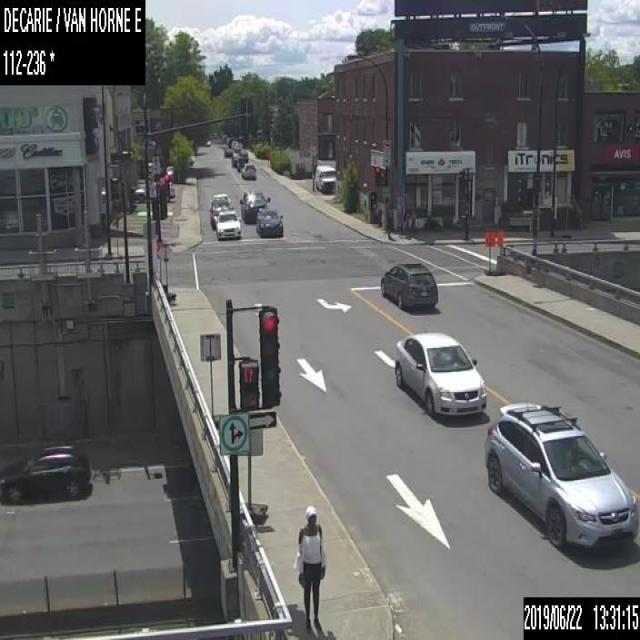construction: (240, 424, 268, 523), (198, 332, 226, 425), (154, 240, 176, 300), (495, 229, 505, 273), (484, 232, 493, 274)
pedestrian: (296, 504, 326, 629)
vehicle: (484, 400, 639, 545), (393, 329, 485, 415), (0, 442, 91, 502), (379, 261, 437, 308), (239, 190, 270, 224), (132, 180, 176, 202), (212, 210, 241, 239), (254, 208, 282, 238), (209, 198, 236, 228), (315, 164, 335, 194), (210, 192, 231, 205), (241, 163, 255, 177), (236, 154, 248, 170), (231, 151, 240, 166), (239, 148, 248, 162), (233, 142, 242, 152), (224, 147, 232, 156), (203, 137, 210, 145), (167, 165, 173, 174)
